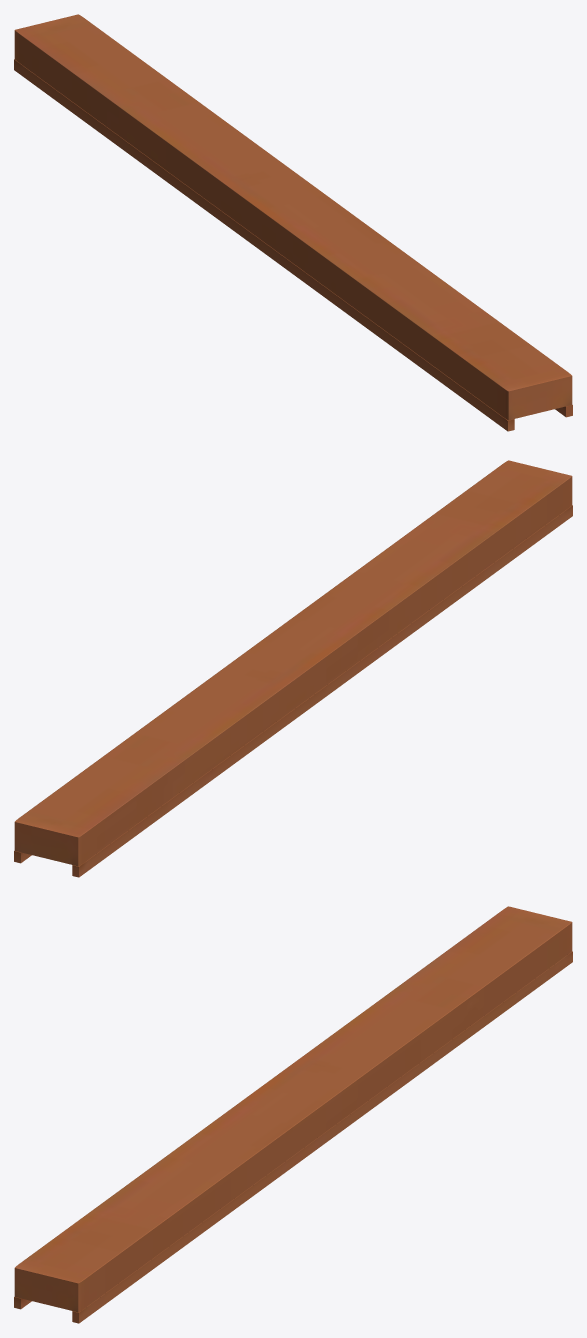
The model's file is atrium_rail.glb.
3 renders of one model, top to bottom at view 1: azimuth 30°, elevation 25°; view 2: azimuth 150°, elevation 25°; view 3: azimuth 330°, elevation 25°, orthographic.
Visible parts, largest first — view 1: atrium_rail; view 2: atrium_rail; view 3: atrium_rail.
Part boxes in pixels (x1=…): atrium_rail: x1=14, y1=14, x2=572, y2=431; atrium_rail: x1=14, y1=460, x2=572, y2=877; atrium_rail: x1=14, y1=906, x2=572, y2=1323.
Size of the model in its own units: 0.0761 by 0.045 by 1.
Materials: 1 (1 with a texture image).
